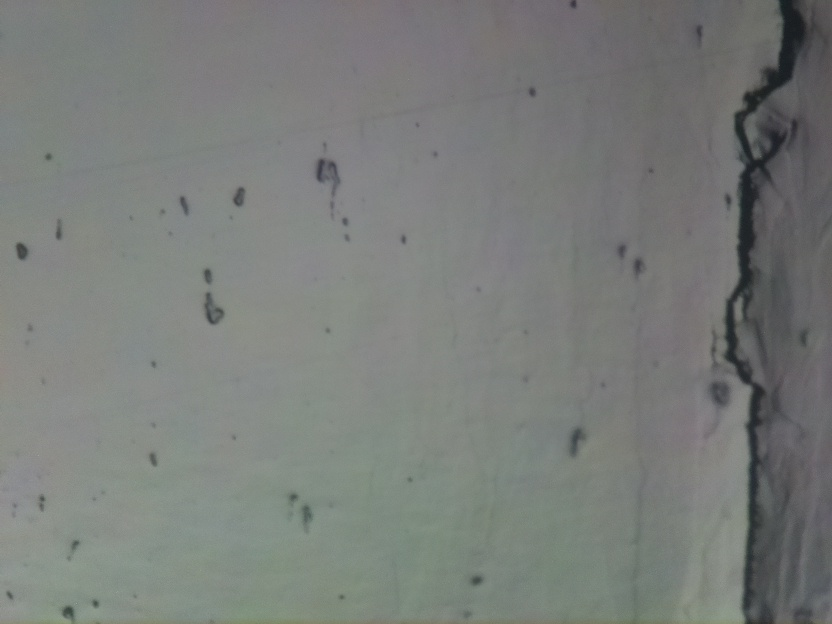crack: (725, 0, 806, 616)
